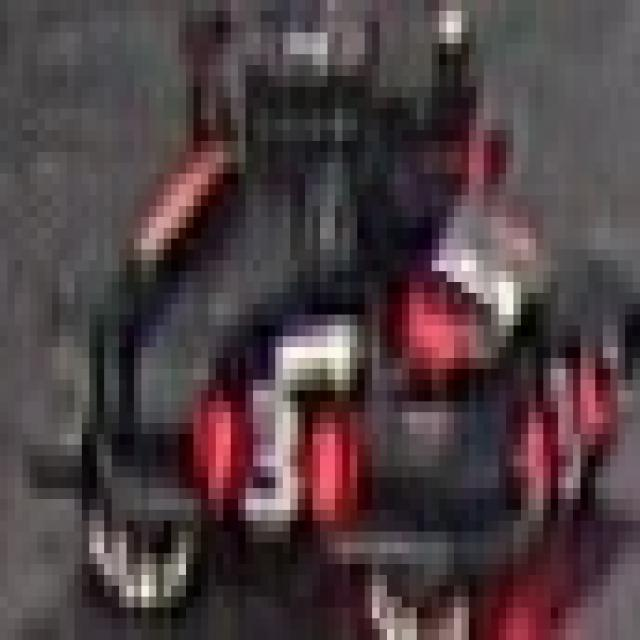R3: (186, 380, 350, 520), (506, 325, 603, 510)
